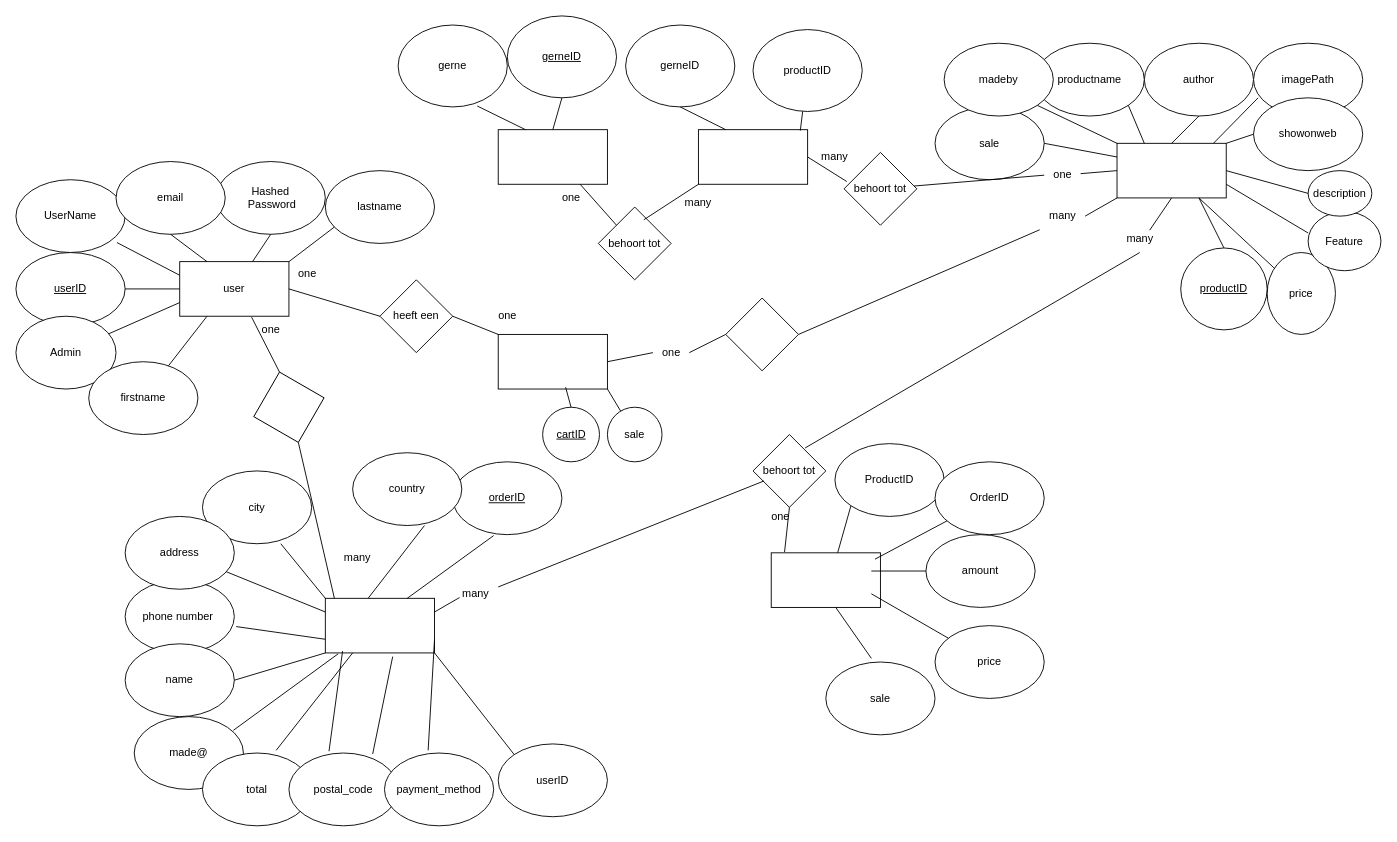
Some shapes in this 1397 by 842 pixel diagram are drawn without their labels. Here are the shapes that lost their labels. From the top down, the centre of each, then its label:
At point 552,156: "genre".
At point 753,156: "product_genre".
At point 1171,170: "product".
At point 762,334: "toegevoegd aan".
At point 552,361: "winkelmand".
At point 288,407: "maakt een".
At point 825,579: "order_items".
At point 379,625: "orders".
